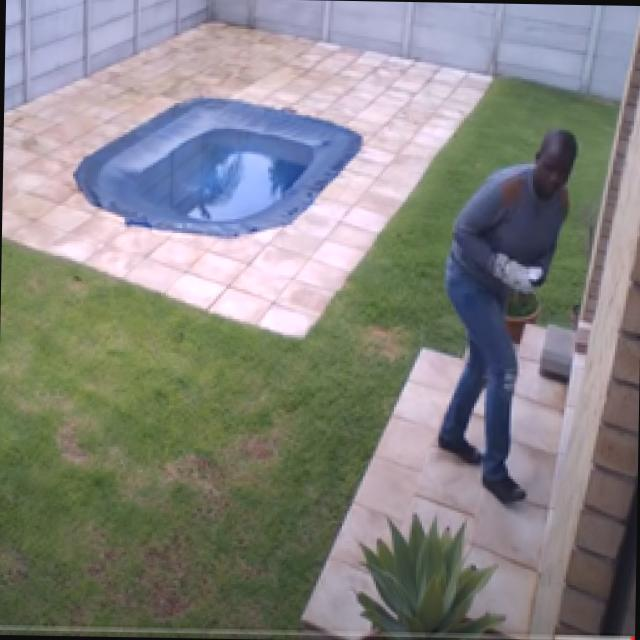person: (432, 124, 578, 502)
